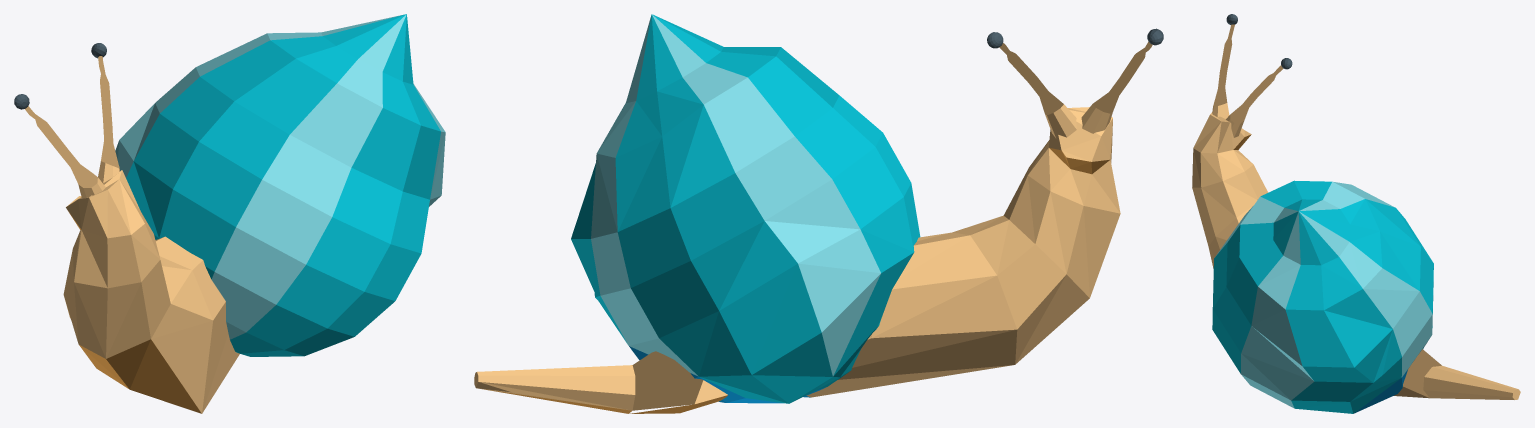
File: animals-snail-186.glb
3 views of the same model, side by side, from view 1: azimuth 30°, elevation 25°; view 2: azimuth 150°, elevation 25°; view 3: azimuth 270°, elevation 25° (orthographic). The views are drawn at different scales.
Parts seen in each view (by area): view 1: Node; view 2: Node; view 3: Node.
Part boxes in pixels (box(x1,y1,x2,y2)): Node: box(14, 14, 445, 413); Node: box(474, 14, 1163, 413); Node: box(1192, 14, 1520, 413).
Size of the model in its own units: 1.04 by 0.7752 by 0.8488.
